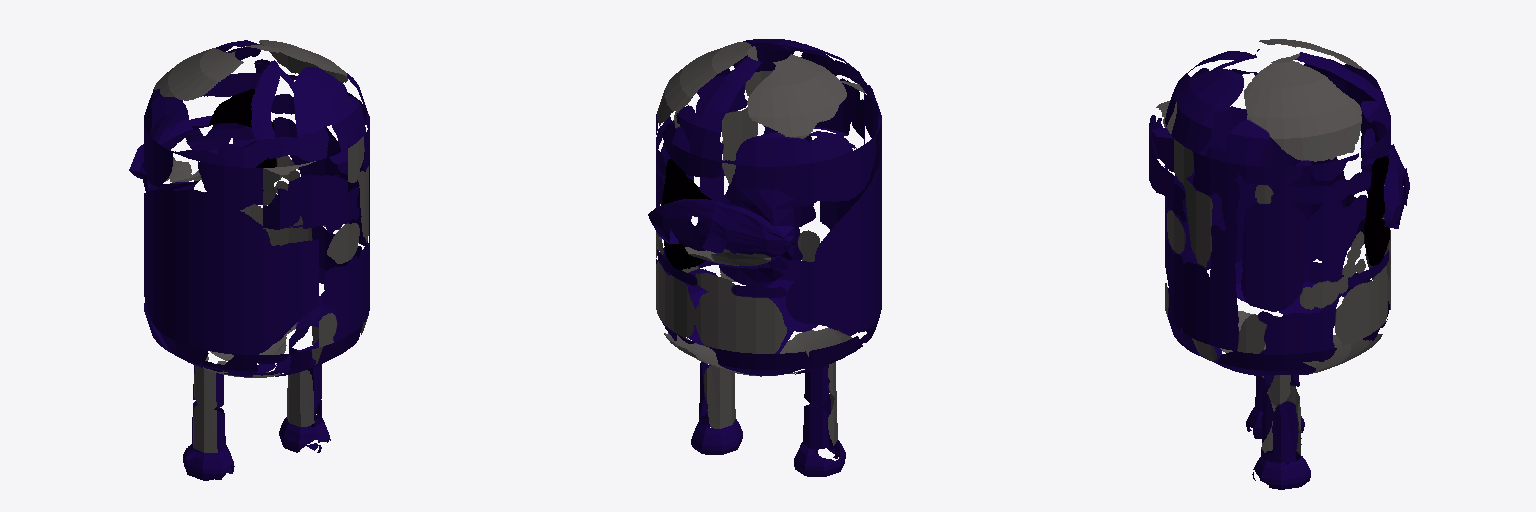
3 views of the same model, side by side, from view 1: azimuth 30°, elevation 25°; view 2: azimuth 150°, elevation 25°; view 3: azimuth 270°, elevation 25° (orthographic).
Parts seen in each view (by area): view 1: Cylinder.002_Cylinder.001; view 2: Cylinder.002_Cylinder.001; view 3: Cylinder.002_Cylinder.001.
Boxes of the visible parts, x1=… form: Cylinder.002_Cylinder.001: x1=129, y1=40, x2=369, y2=480; Cylinder.002_Cylinder.001: x1=648, y1=39, x2=881, y2=476; Cylinder.002_Cylinder.001: x1=1149, y1=39, x2=1409, y2=489.
Size of the model in its own units: 2 by 3.94 by 2.31.
Materials: 1 (1 with a texture image).